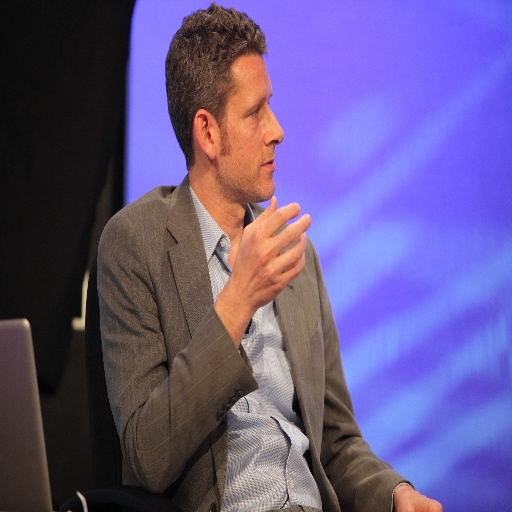hand: (218, 210, 306, 347), (391, 484, 442, 511)
